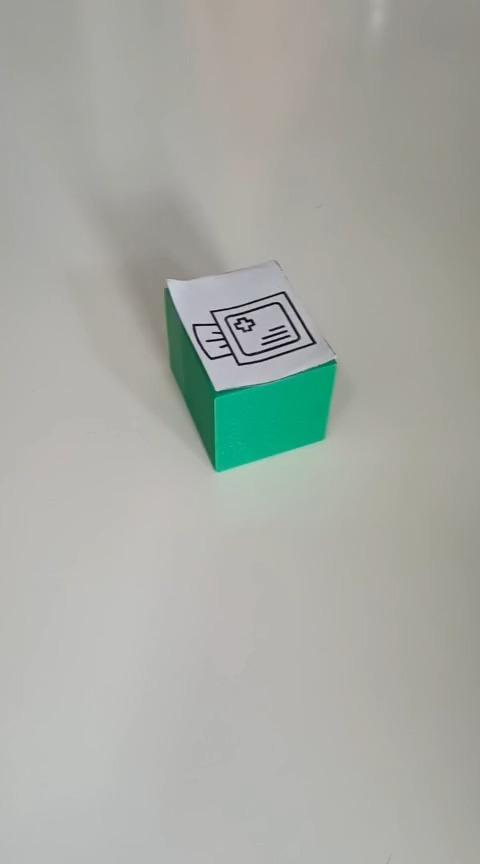Gauze: (162, 257, 338, 472)
